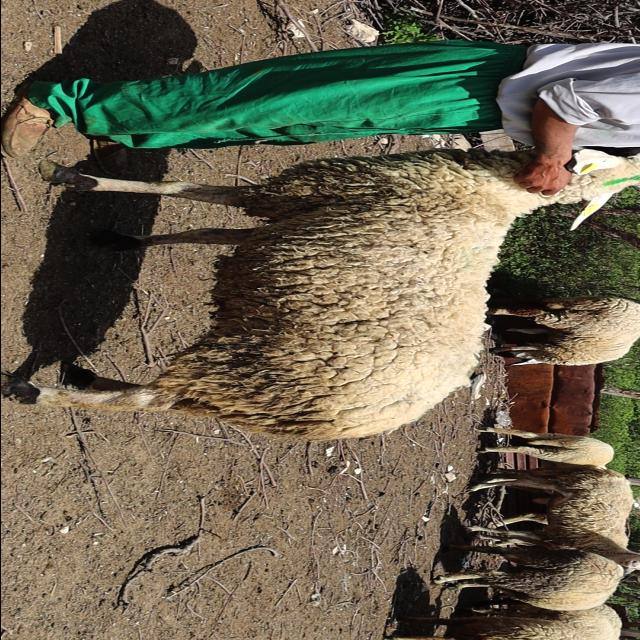Score_5: (1, 148, 640, 441)
